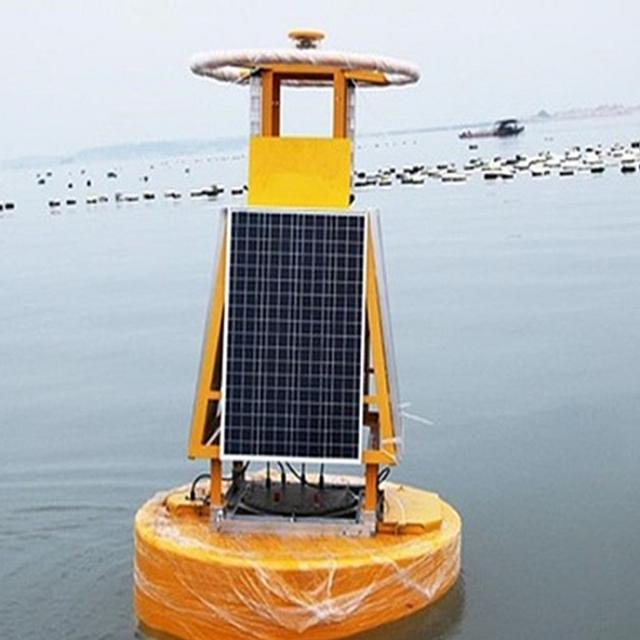buoy: (124, 21, 470, 640)
